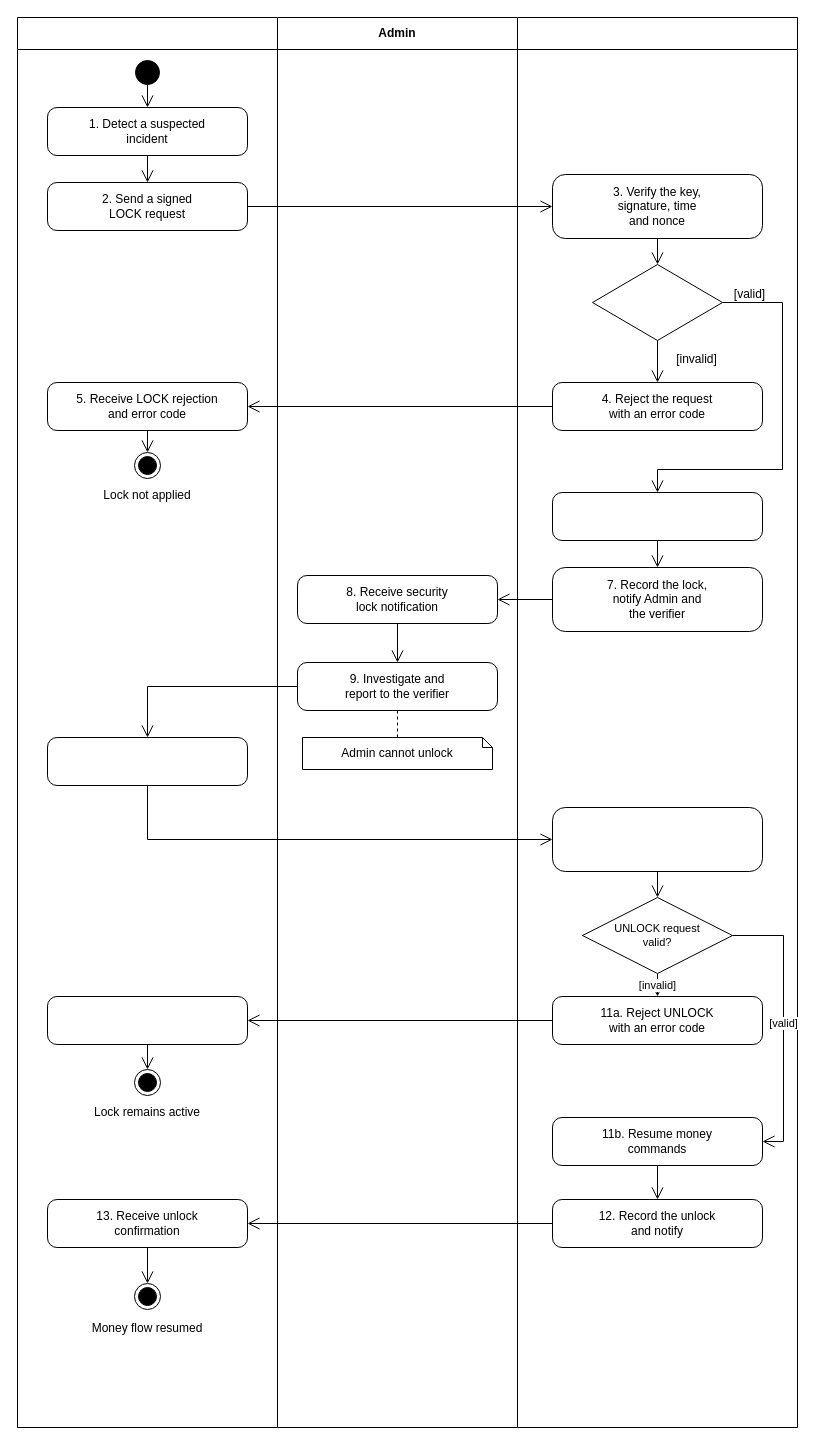
Some shapes in this 815 by 1445 pixel diagram are drawn without their labels. Each missing label, with the box of its shape:
10. Send a signed UNLOCK request: (46, 736, 248, 786)
11. Verify the UNLOCK key, signature, time and nonce: (552, 806, 762, 872)
6. Stop all money commands: (552, 492, 762, 540)
External Verifier: (16, 16, 278, 1428)
LOCK request valid?: (592, 264, 722, 340)
Receive UNLOCK rejection and error code: (46, 996, 248, 1044)
System: (516, 16, 798, 1428)
